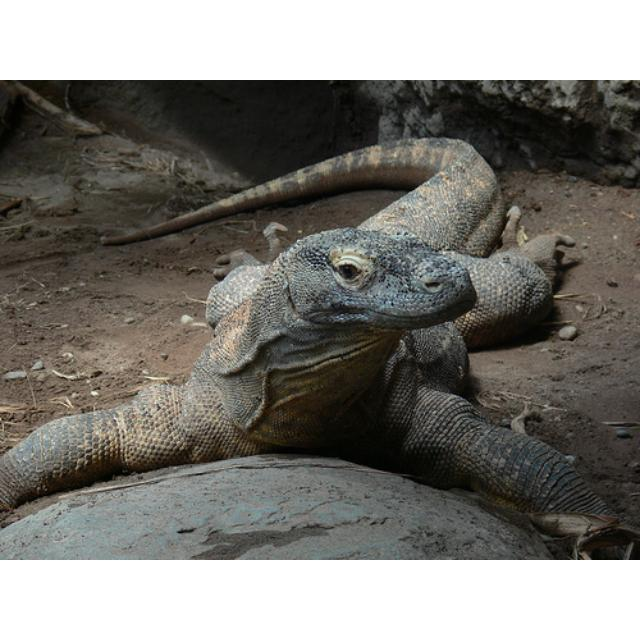KomodoDragon: (1, 135, 638, 557)
